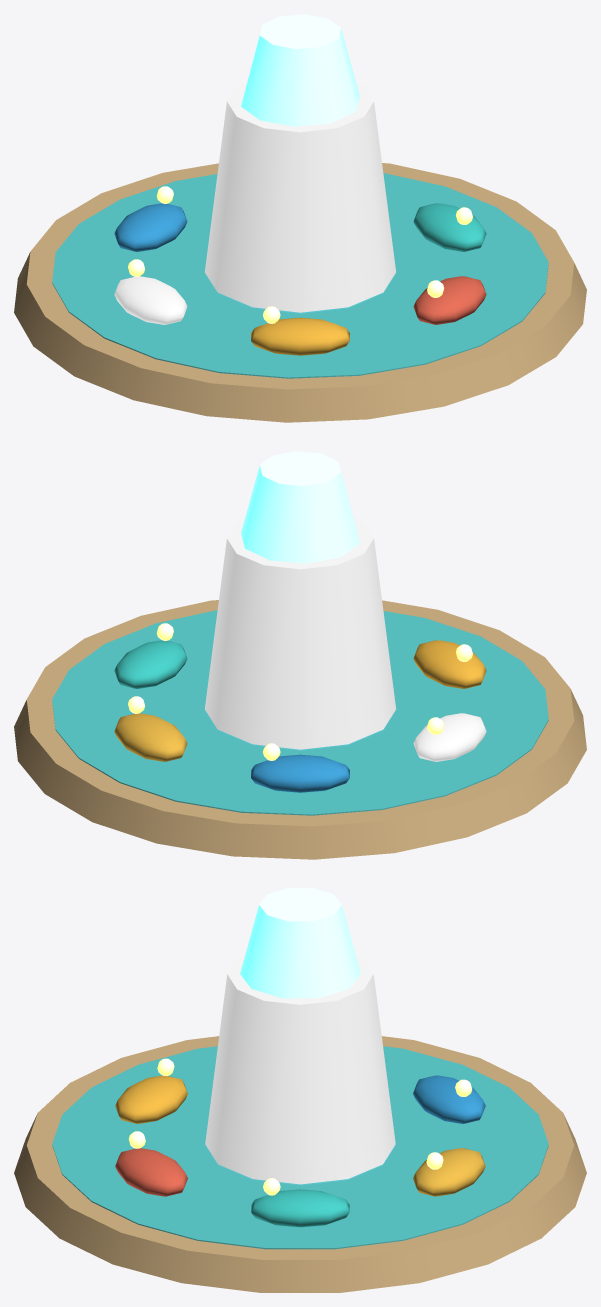
Rendered from crystal-lagoon-ride.glb.
The picture shows the model from 3 angles, top to bottom: view 1: azimuth 30°, elevation 25°; view 2: azimuth 150°, elevation 25°; view 3: azimuth 270°, elevation 25°; orthographic projection.
Parts seen in each view (by area): view 1: Mesh_water, Mesh_sandStone, Mesh_ffffff (×2), Mesh_glowCyan, Mesh_mango, Mesh_skyBlue, Mesh_coral, Mesh_turquoise, Mesh_glowWarm; view 2: Mesh_water, Mesh_sandStone, Mesh_ffffff (×2), Mesh_glowCyan, Mesh_skyBlue, Mesh_gold, Mesh_turquoise, Mesh_mango, Mesh_glowWarm; view 3: Mesh_water, Mesh_sandStone, Mesh_ffffff, Mesh_glowCyan, Mesh_turquoise, Mesh_coral, Mesh_mango, Mesh_skyBlue, Mesh_gold, Mesh_glowWarm.
Part boxes in pixels (<box>): Mesh_water: <box>52,173,548,378</box>; Mesh_sandStone: <box>14,163,586,422</box>; Mesh_ffffff (×2): <box>114,81,395,324</box>; Mesh_glowCyan: <box>241,14,359,126</box>; Mesh_mango: <box>251,317,349,355</box>; Mesh_skyBlue: <box>114,203,187,251</box>; Mesh_coral: <box>413,276,486,324</box>; Mesh_turquoise: <box>413,203,486,251</box>; Mesh_glowWarm: <box>128,186,472,323</box>; Mesh_water: <box>52,610,548,815</box>; Mesh_sandStone: <box>14,600,586,859</box>; Mesh_ffffff (×2): <box>205,518,486,761</box>; Mesh_glowCyan: <box>241,451,359,563</box>; Mesh_skyBlue: <box>251,754,349,792</box>; Mesh_gold: <box>114,713,187,761</box>; Mesh_turquoise: <box>114,640,187,688</box>; Mesh_mango: <box>413,640,486,688</box>; Mesh_glowWarm: <box>128,623,472,760</box>; Mesh_water: <box>52,1046,548,1249</box>; Mesh_sandStone: <box>14,1036,586,1292</box>; Mesh_ffffff: <box>205,955,395,1184</box>; Mesh_glowCyan: <box>240,888,360,998</box>; Mesh_turquoise: <box>251,1189,349,1227</box>; Mesh_coral: <box>115,1148,187,1196</box>; Mesh_mango: <box>115,1075,187,1123</box>; Mesh_skyBlue: <box>413,1075,485,1123</box>; Mesh_gold: <box>413,1148,485,1196</box>; Mesh_glowWarm: <box>128,1058,472,1195</box>.
Bounding box in the file's own units: 8.91 × 4.65 × 9.
